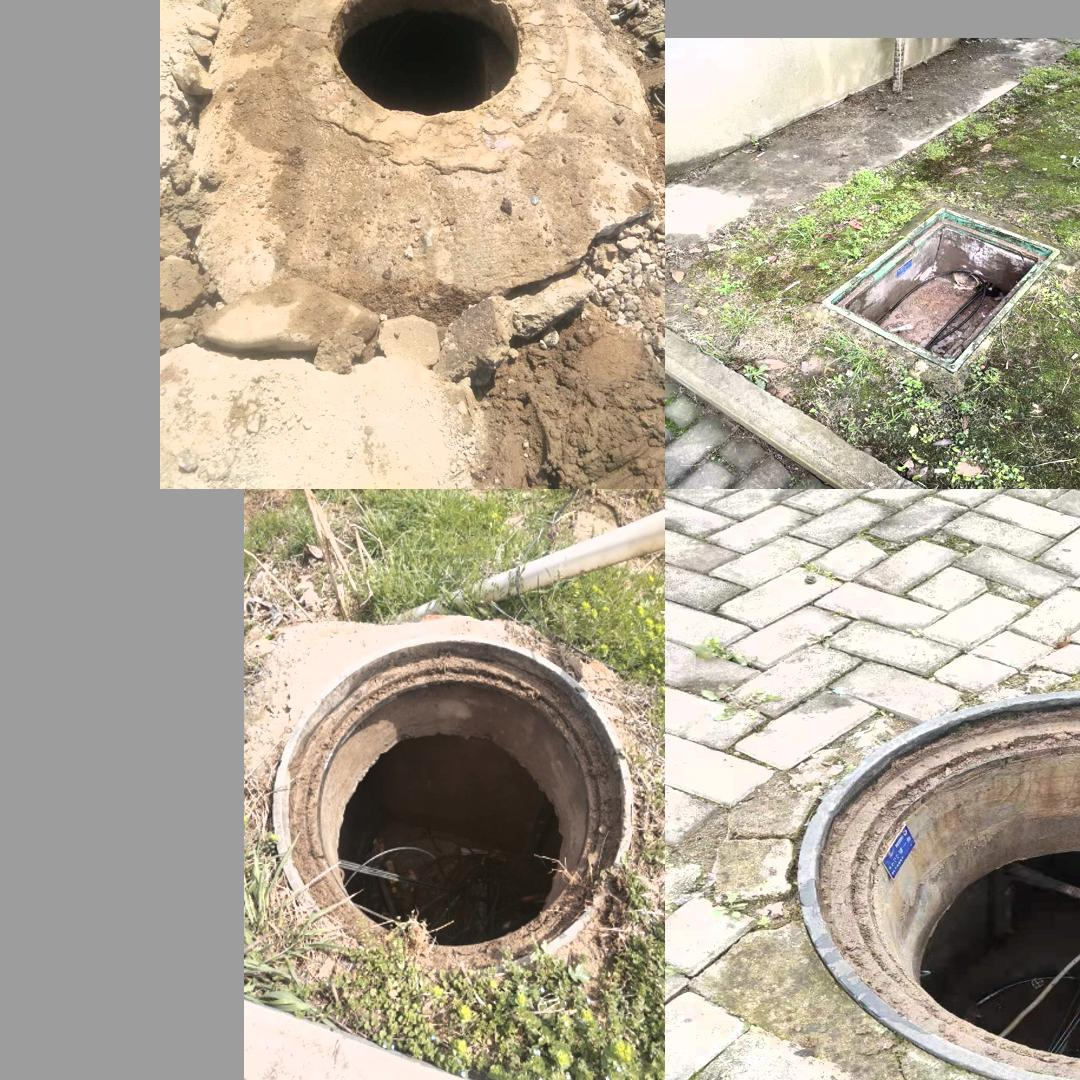lose: (271, 631, 633, 985), (794, 688, 1080, 1080), (823, 208, 1058, 372), (329, 0, 526, 117)
